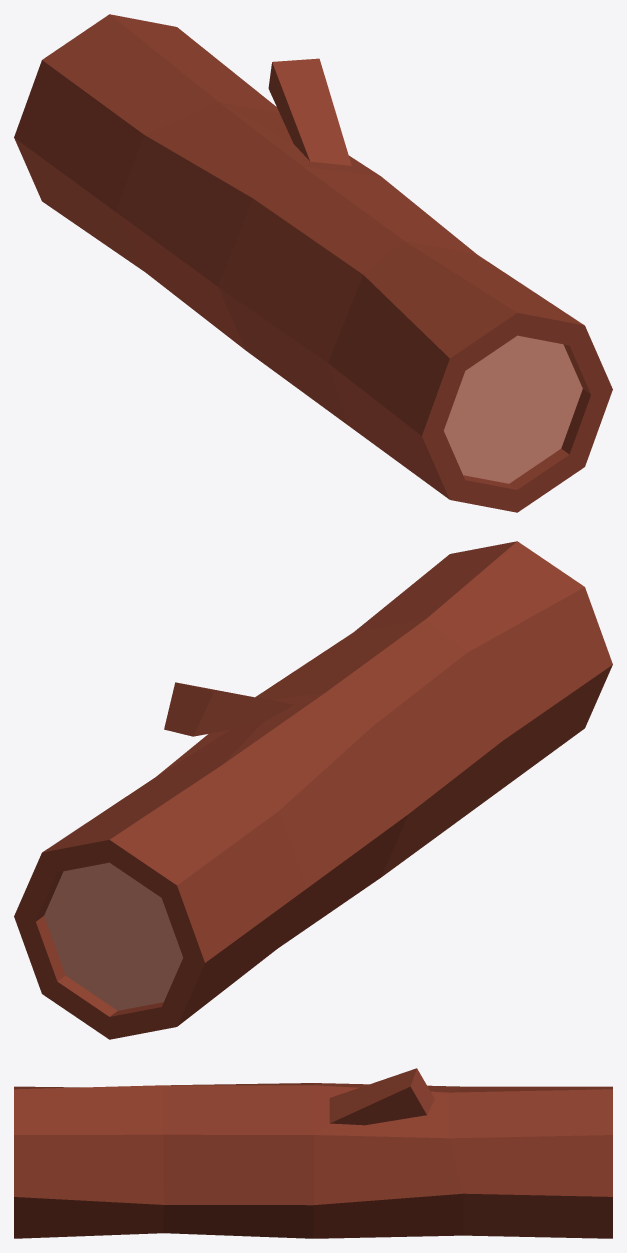
Rendered from log_1a.fbx.
3 renders of one model, top to bottom at view 1: azimuth 30°, elevation 25°; view 2: azimuth 150°, elevation 25°; view 3: azimuth 270°, elevation 25°, orthographic. The views are drawn at different scales.
Parts seen in each view (by area): view 1: log_1a; view 2: log_1a; view 3: log_1a.
Boxes of the visible parts, left/top/right/bottom form: log_1a: left=14, top=14, right=612, bottom=512; log_1a: left=14, top=541, right=612, bottom=1039; log_1a: left=14, top=1068, right=612, bottom=1238.
Size of the model in its own units: 53.77 by 64.6 by 197.
